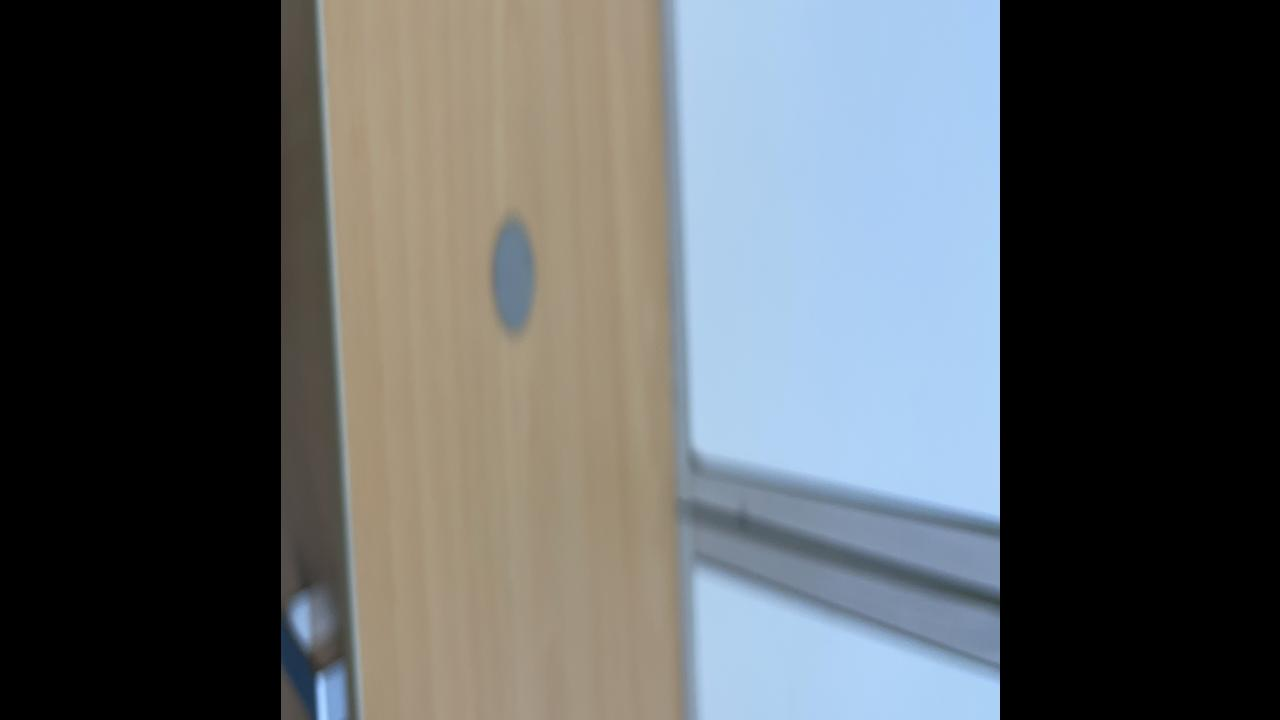coin: (488, 210, 538, 342)
